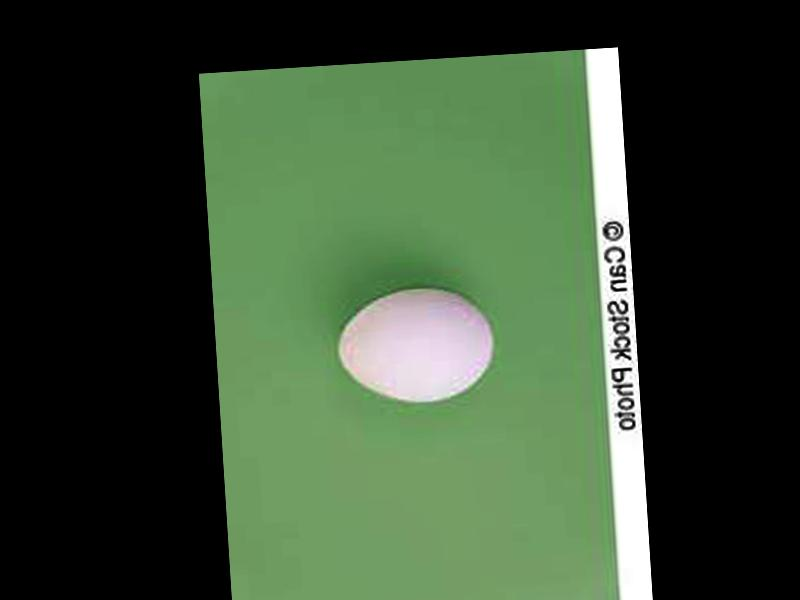Eggs: (335, 284, 495, 405)
